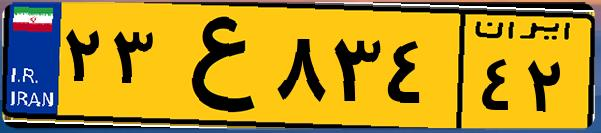2: (57, 26, 110, 100), (525, 38, 570, 115)
3: (330, 28, 385, 110), (110, 28, 158, 98)
4: (385, 28, 445, 110), (475, 38, 525, 113)
8: (270, 28, 330, 110)
ع: (158, 12, 270, 120)
